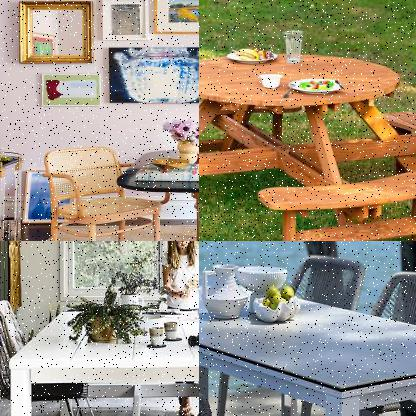table: (199, 46, 415, 240), (199, 270, 415, 415), (6, 301, 198, 415), (111, 145, 198, 240)
